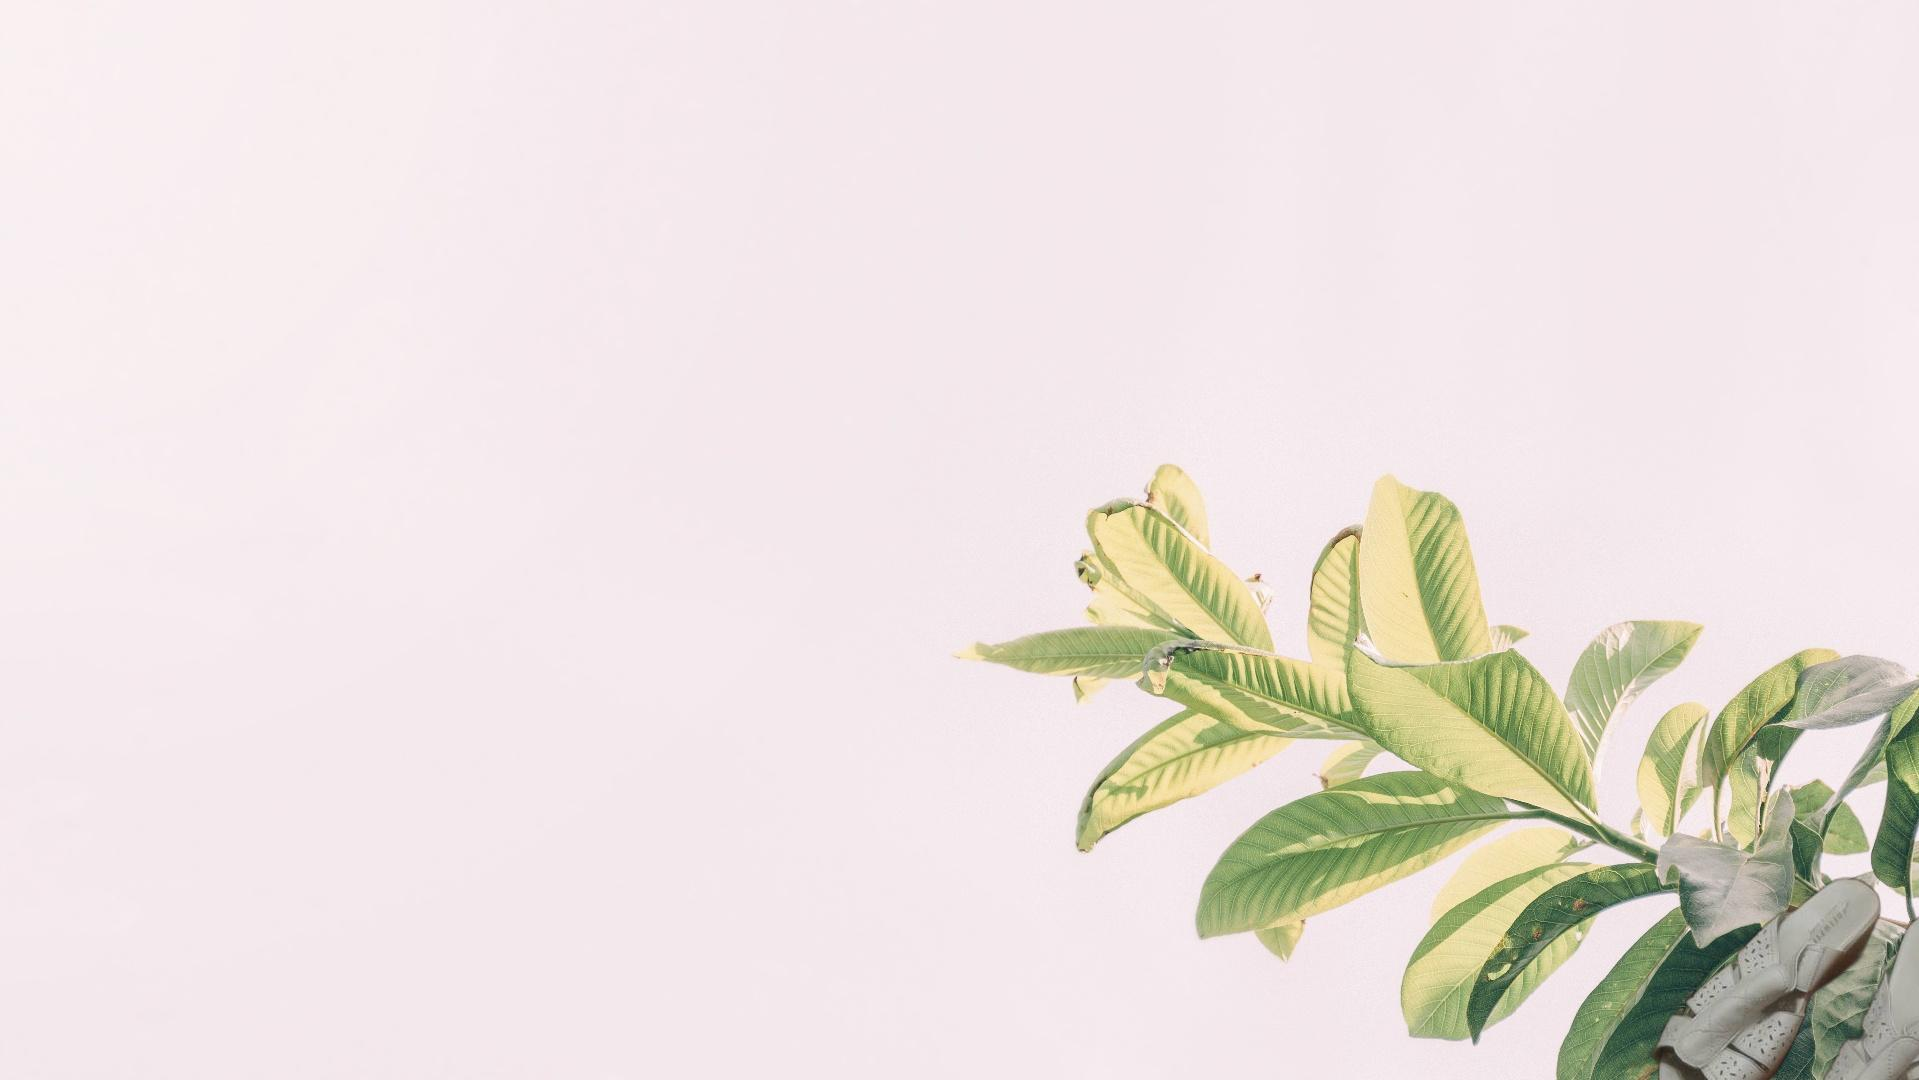shoes: (1647, 872, 1919, 1080)
